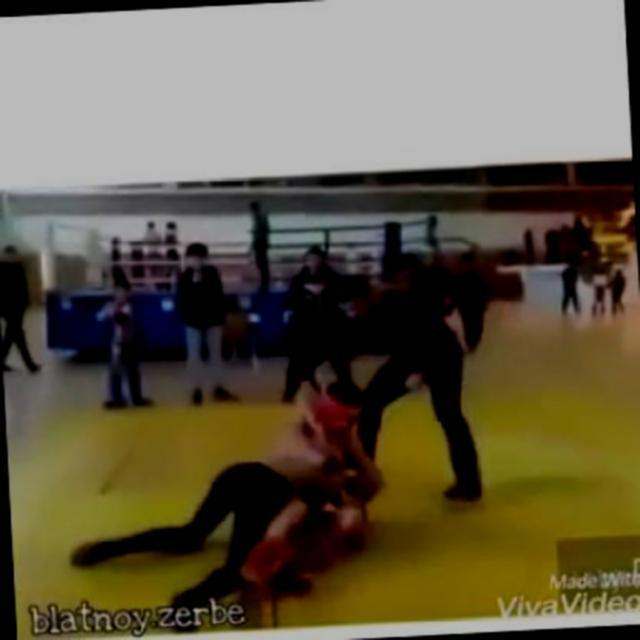fight: (184, 378, 390, 570)
